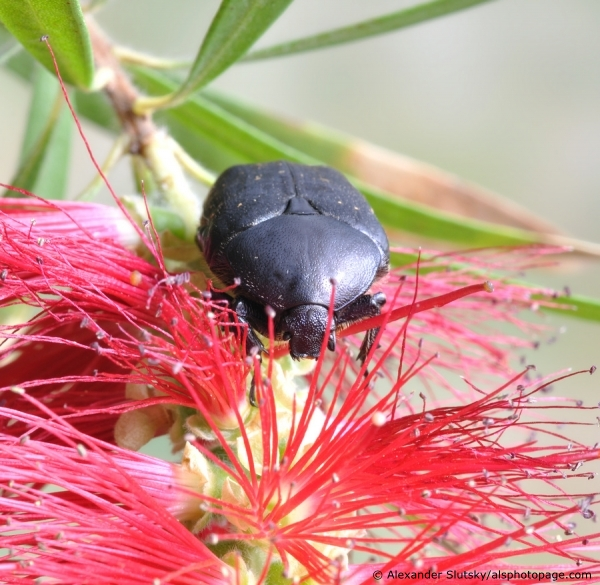Protaetia_afflicta: (192, 155, 405, 382)
